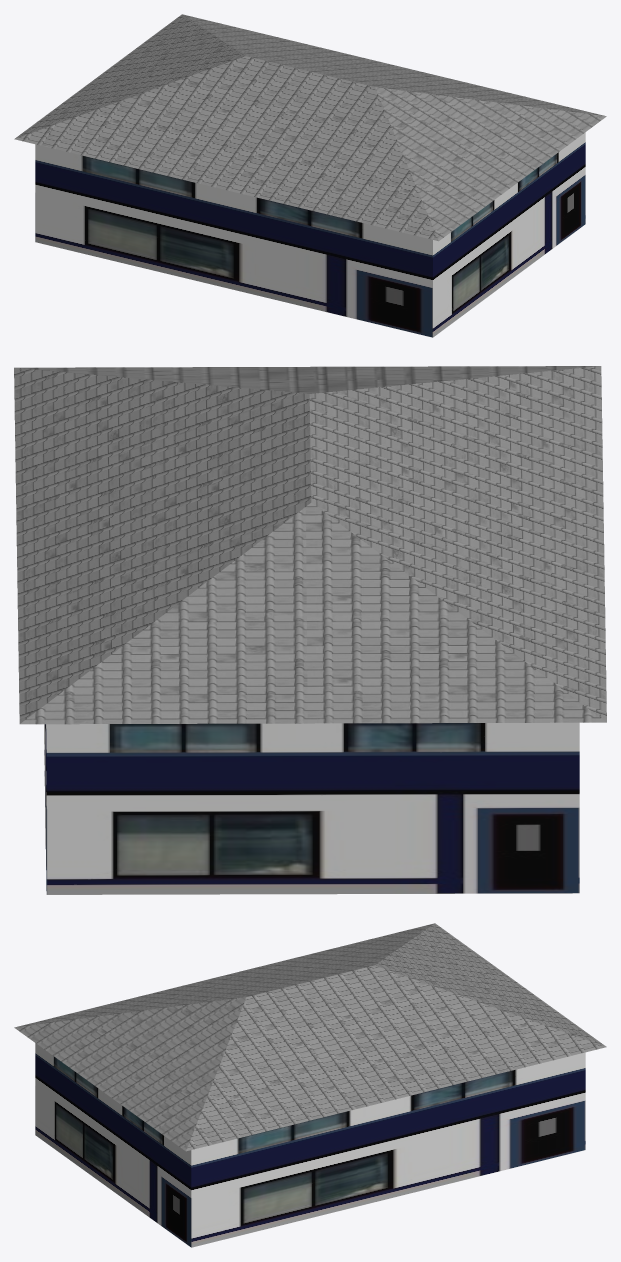
3 renders of one model, top to bottom at view 1: azimuth 30°, elevation 25°; view 2: azimuth 150°, elevation 25°; view 3: azimuth 270°, elevation 25°, orthographic. The views are drawn at different scales.
Visible parts, largest first — view 1: CityEngineMaterial_4_m, CityEngineMaterial_2_m; view 2: CityEngineMaterial_4_m, CityEngineMaterial_2_m; view 3: CityEngineMaterial_4_m, CityEngineMaterial_2_m.
Boxes of the visible parts, x1,y1,x2,y2 form: CityEngineMaterial_4_m: (14,14,606,241); CityEngineMaterial_2_m: (35,132,585,337); CityEngineMaterial_4_m: (14,366,606,724); CityEngineMaterial_2_m: (44,722,579,894); CityEngineMaterial_4_m: (14,923,606,1151); CityEngineMaterial_2_m: (35,1043,585,1247).
Size of the model in its own units: 32.4 by 10.69 by 35.58.
